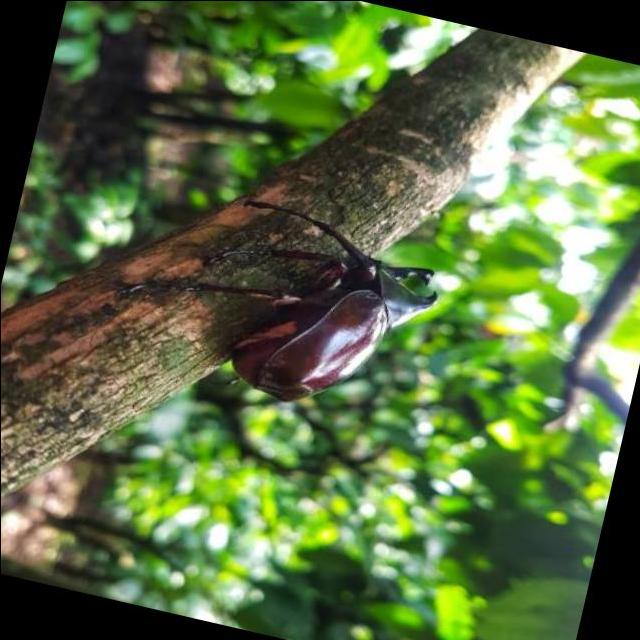Rhino-beetle: (205, 224, 452, 414)
